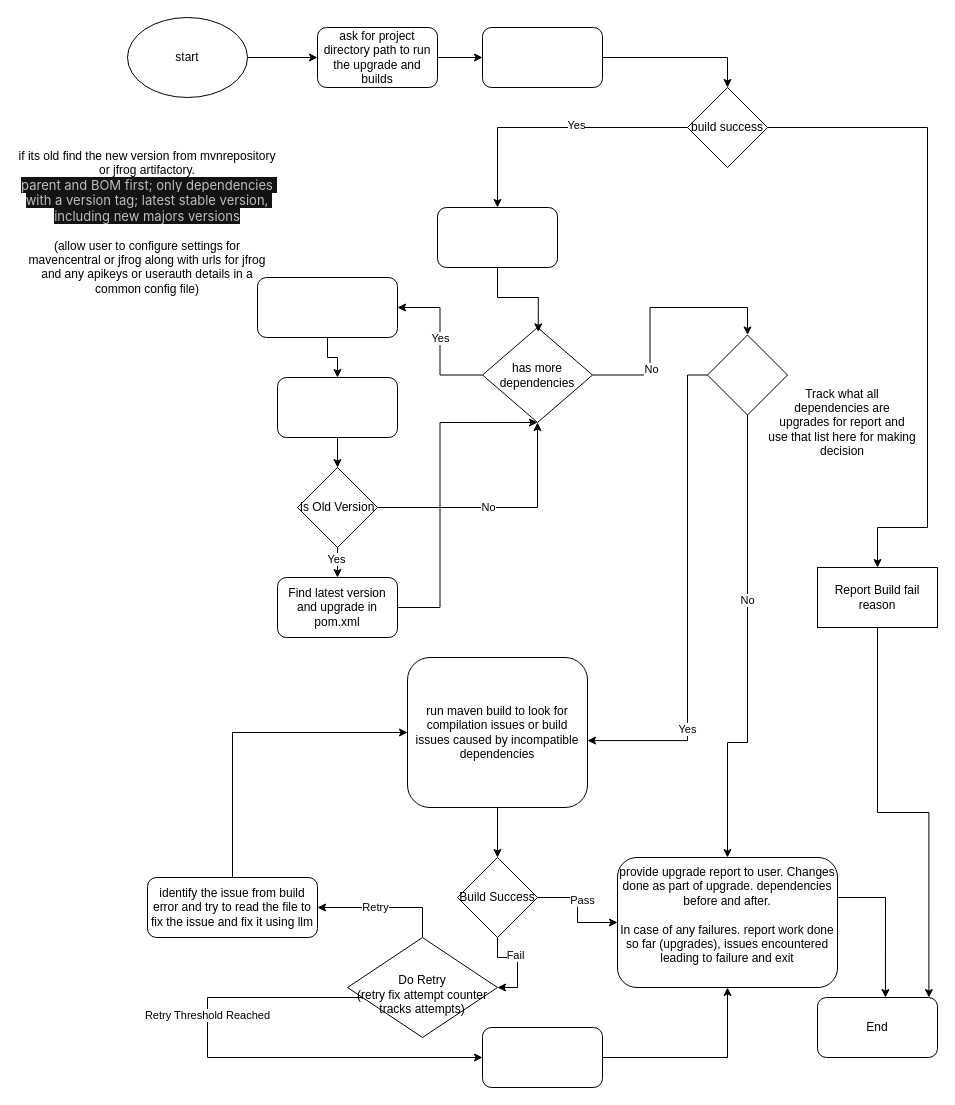
This 955x1105 diagram has some shape labels left out. Each missing label, with the box of its shape:
Any Upgrades performed: (706, 334, 788, 415)
Check in Jfrog if dependency version is new or old: (276, 376, 398, 438)
defer to user. Let user manually fix: (482, 1026, 602, 1088)
Pick Next Dependency (pick only dependencies which have version tag): (256, 276, 398, 338)
Read dependencies file (pom.xml): (436, 206, 558, 268)
try to build so that pre-upgrade application build succeeds: (482, 26, 602, 88)
